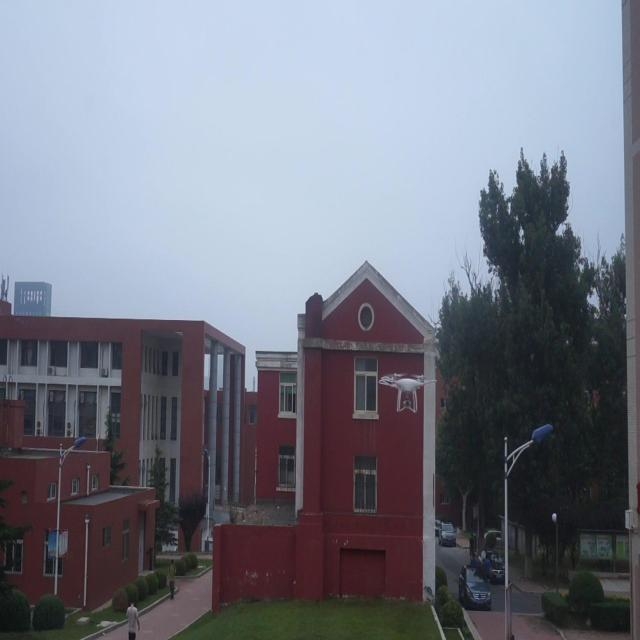drone: (377, 366, 441, 424)
